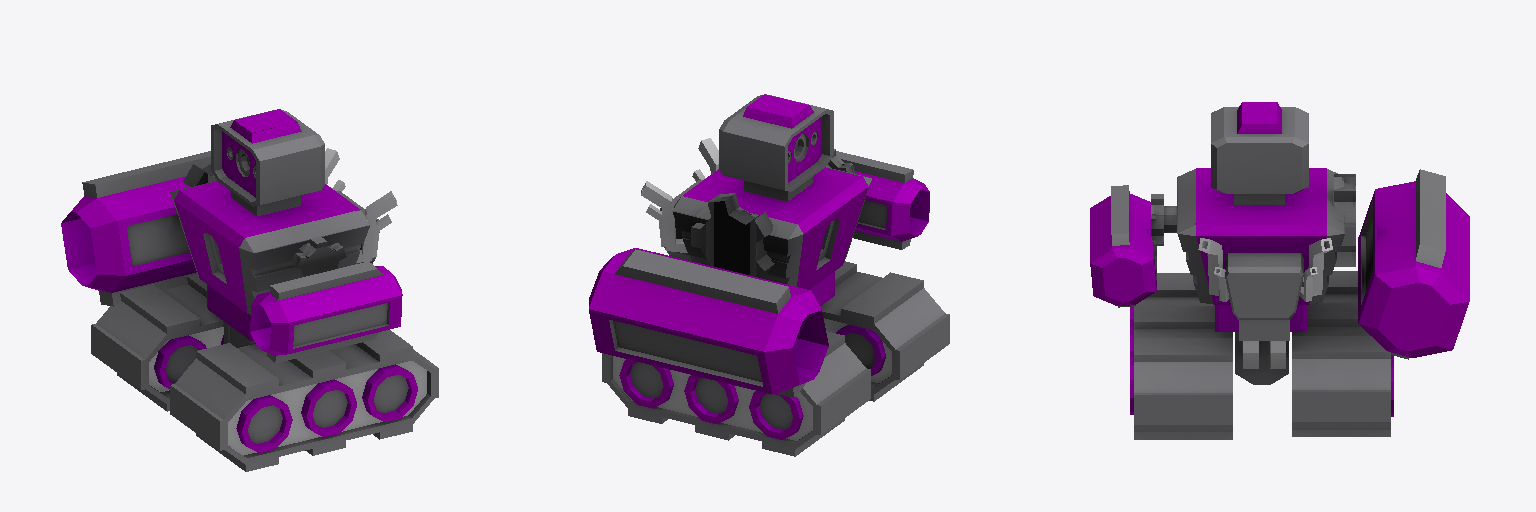
3 views of the same model, side by side, from view 1: azimuth 30°, elevation 25°; view 2: azimuth 150°, elevation 25°; view 3: azimuth 270°, elevation 25° (orthographic).
Visible parts, largest first — view 1: Object006, Object013, Object011, Object014, Object012, Object010, Object008; view 2: Object006, Object011, Object013, Object012, Object014, Object009, Object010; view 3: Object006, Object011, Object013, Object012, Object010, Object014, Object009, Object008.
Boxes of the visible parts, x1,y1,x2,y2 form: Object006: [91, 274, 438, 471]; Object013: [170, 181, 369, 347]; Object011: [61, 151, 210, 306]; Object014: [250, 261, 402, 363]; Object012: [211, 109, 324, 215]; Object010: [325, 148, 397, 263]; Object008: [291, 237, 346, 277]; Object006: [602, 261, 949, 456]; Object011: [589, 248, 828, 397]; Object013: [672, 167, 871, 305]; Object012: [719, 94, 833, 201]; Object014: [836, 151, 929, 249]; Object009: [691, 193, 774, 277]; Object010: [641, 138, 718, 260]; Object006: [1130, 271, 1393, 439]; Object011: [1358, 169, 1469, 359]; Object013: [1177, 168, 1344, 384]; Object012: [1211, 102, 1308, 204]; Object010: [1198, 238, 1332, 368]; Object014: [1090, 185, 1156, 307]; Object009: [1334, 174, 1355, 266]; Object008: [1151, 194, 1176, 245].
Bounding box in the file's own units: 87.45 × 108 × 131.
1 materials, 1 textured.